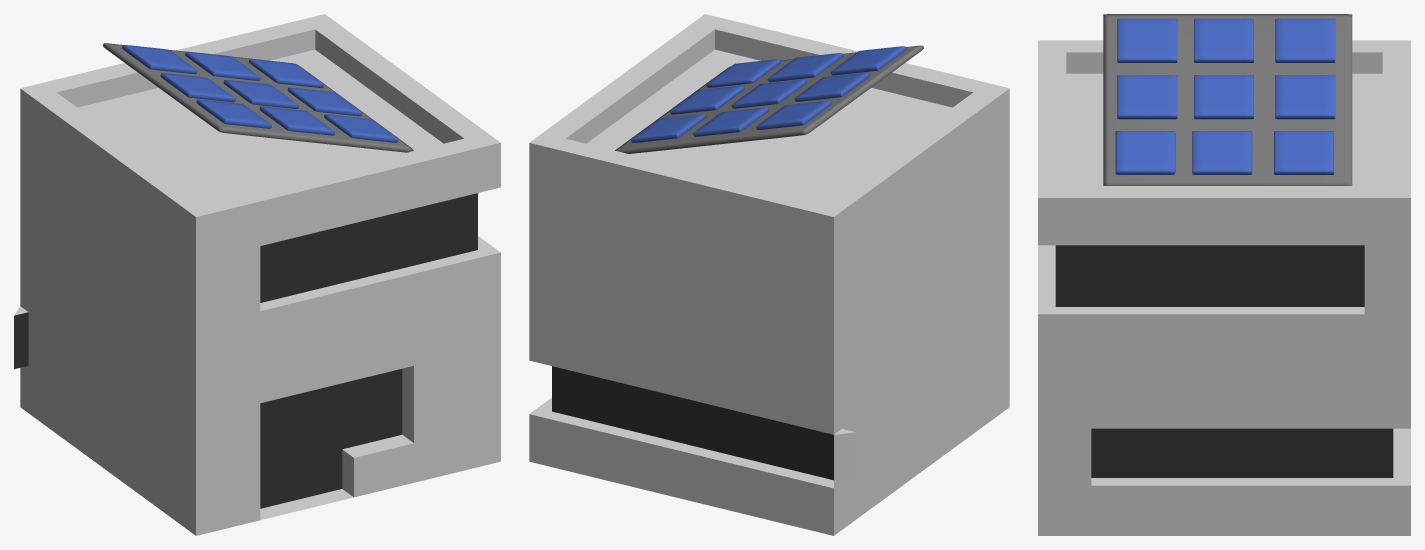
The model's file is Cartoon_House.fbx.
3 views of the same model, side by side, from view 1: azimuth 30°, elevation 25°; view 2: azimuth 150°, elevation 25°; view 3: azimuth 270°, elevation 25° (orthographic). The views are drawn at different scales.
Visible parts, largest first — view 1: House, Sonar Plane; view 2: House, Sonar Plane; view 3: House, Sonar Plane.
Boxes of the visible parts, x1,y1,x2,y2 form: House: (14, 14, 500, 535); Sonar Plane: (103, 43, 413, 152); House: (529, 14, 1009, 535); Sonar Plane: (615, 45, 923, 153); House: (1038, 40, 1410, 535); Sonar Plane: (1103, 14, 1352, 185).
Bounding box in the file's own units: 314 × 350 × 299.
